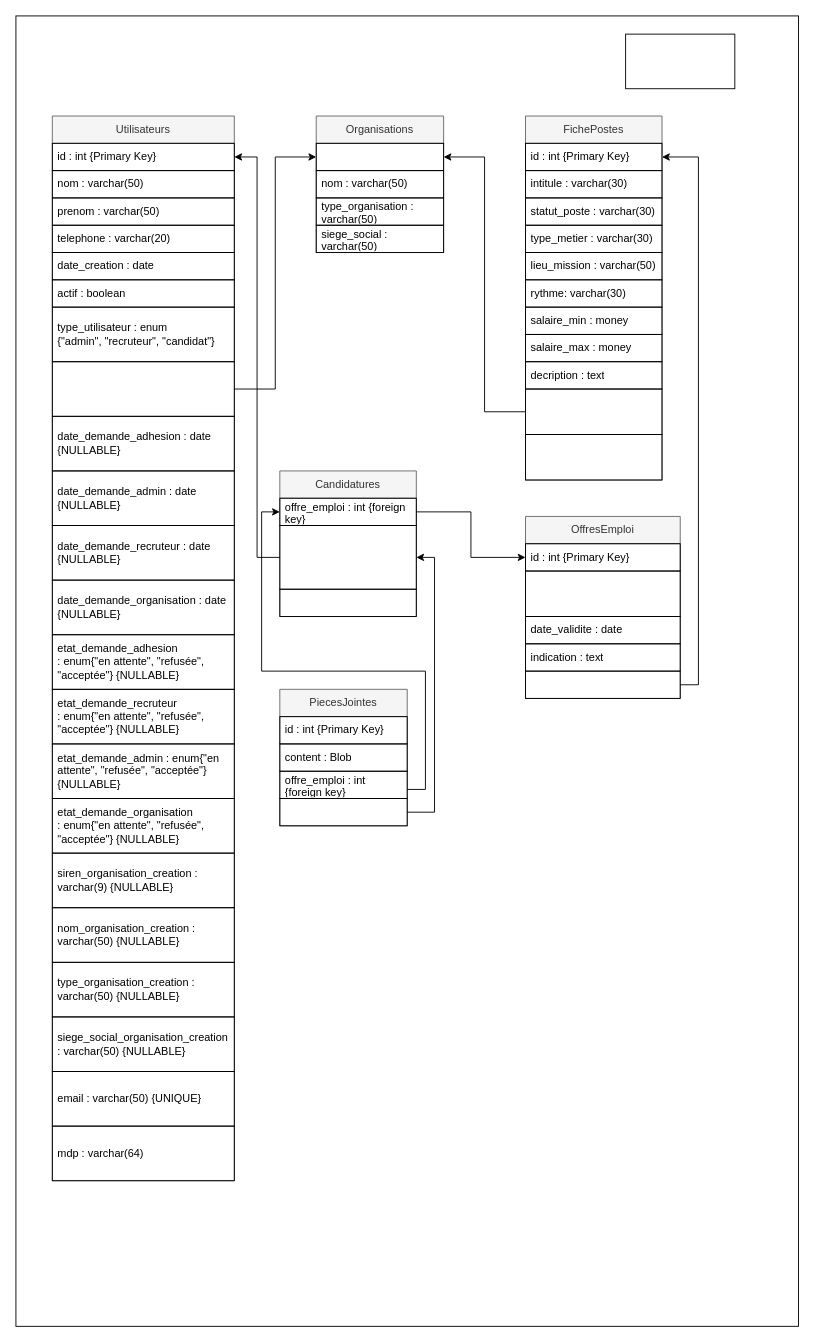
Some shapes in this 814 by 1342 pixel diagram are drawn without their labels. The centre of each missing label's shape, as x and y in pixels:
candidat : int {foreign key}: [343,812]
candidat : int {foreign key} {Primary Key (offre_emploi, candidat)}: [347,557]
date_candidature : date: [347,602]
etat : enum{"non publiée","publiée","expirée"}: [602,593]
fiche_poste : int {foreign key}: [602,684]
responsable_hierarchique : varchar(50): [593,457]
Siren : varchar(9) {Primary key}: [379,156]
siren_organisation : varchar(9) {foreign key}: [593,411]
siren_organisation : varchar(9) {NULLABLE, foreign key}: [142,388]
Tout NOT NULL sauf si précisé: [680,61]
